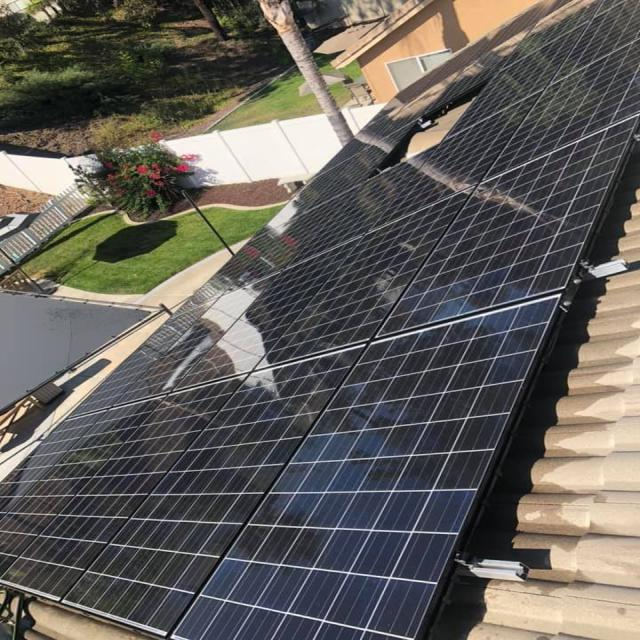clean-solar-panel: (2, 0, 638, 640)
